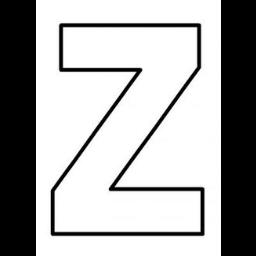z: (46, 18, 216, 240)
